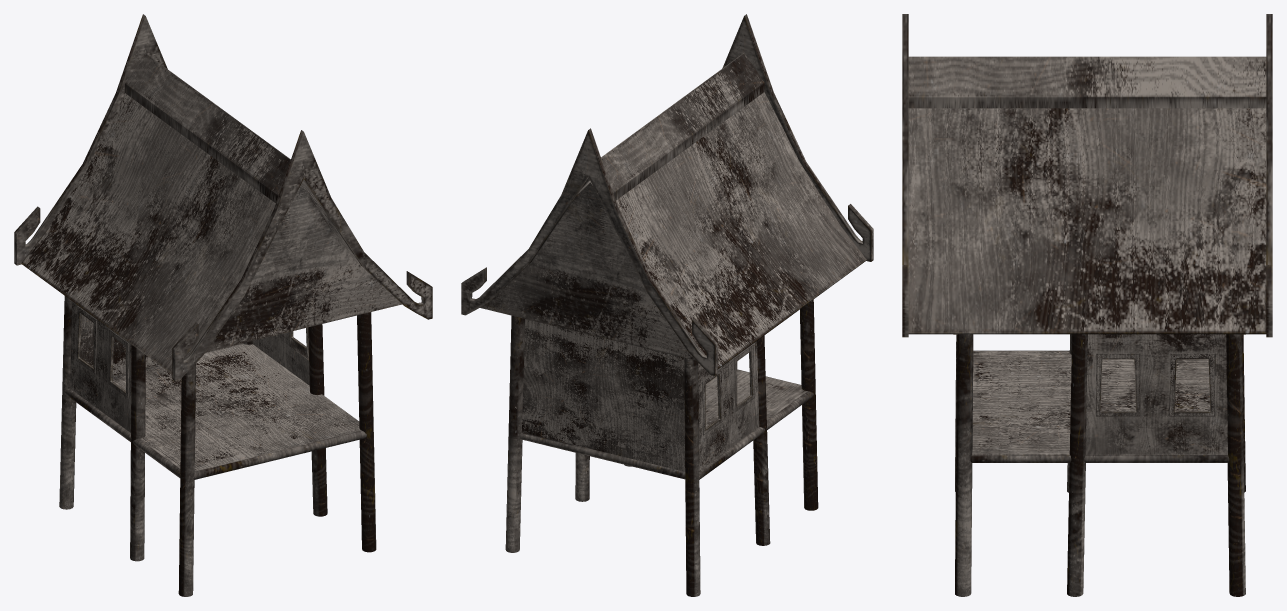
File: Shrine.fbx
The picture shows the model from 3 angles, left to right: view 1: azimuth 30°, elevation 25°; view 2: azimuth 150°, elevation 25°; view 3: azimuth 270°, elevation 25°; orthographic projection. The views are drawn at different scales.
Visible parts, largest first — view 1: Shrine; view 2: Shrine; view 3: Shrine.
Part boxes in pixels (bbox=[...]): Shrine: bbox=[14, 14, 432, 596]; Shrine: bbox=[461, 14, 873, 596]; Shrine: bbox=[902, 14, 1272, 596].
Bounding box in the file's own units: 52.8 × 89.96 × 57.15.
Materials: 1 (1 with a texture image).
